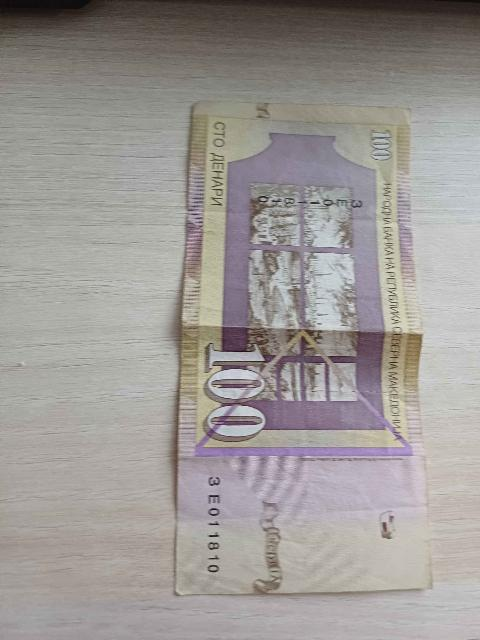100_note: (165, 90, 439, 607)
